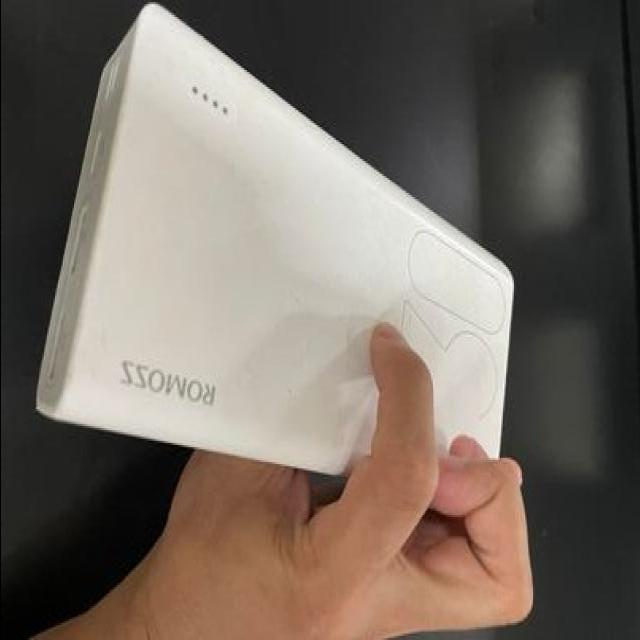power_bank: (28, 0, 534, 521)
